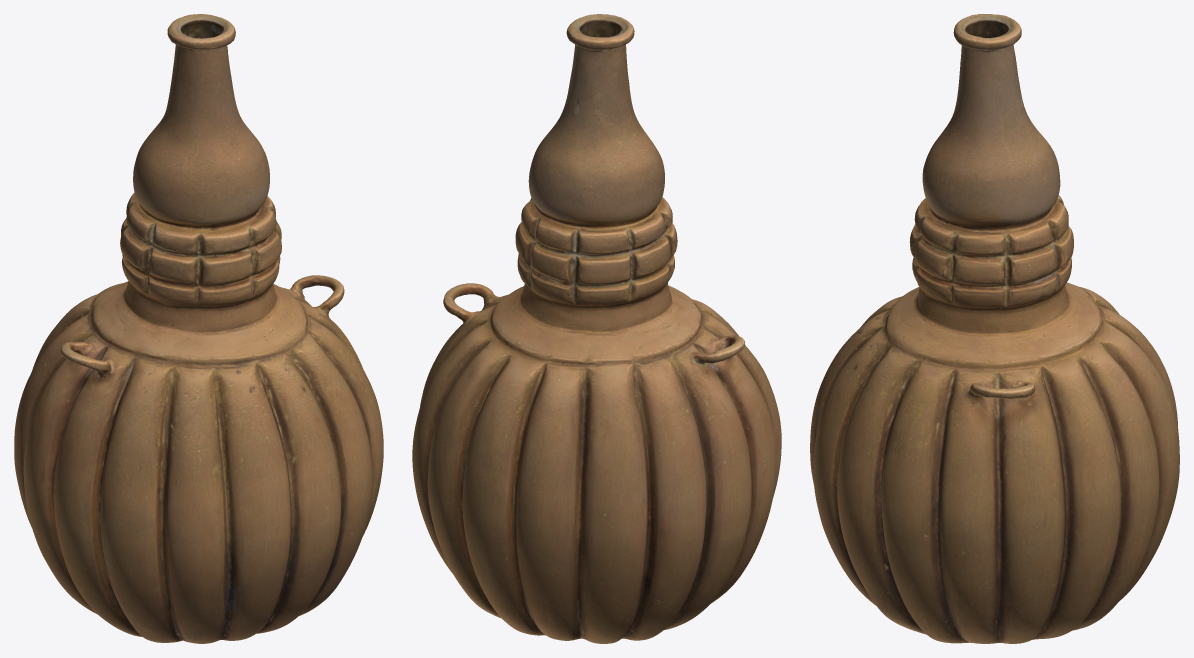
3 renders of one model, left to right at view 1: azimuth 30°, elevation 25°; view 2: azimuth 150°, elevation 25°; view 3: azimuth 270°, elevation 25°, orthographic.
Parts seen in each view (by area): view 1: 17444_LP; view 2: 17444_LP; view 3: 17444_LP.
Boxes of the visible parts, x1=… form: 17444_LP: x1=14, y1=14, x2=383, y2=643; 17444_LP: x1=412, y1=14, x2=781, y2=643; 17444_LP: x1=810, y1=14, x2=1179, y2=643.
Bounding box in the file's own units: 0.0926 × 0.1633 × 0.0932.
Materials: 1 (1 with a texture image).
